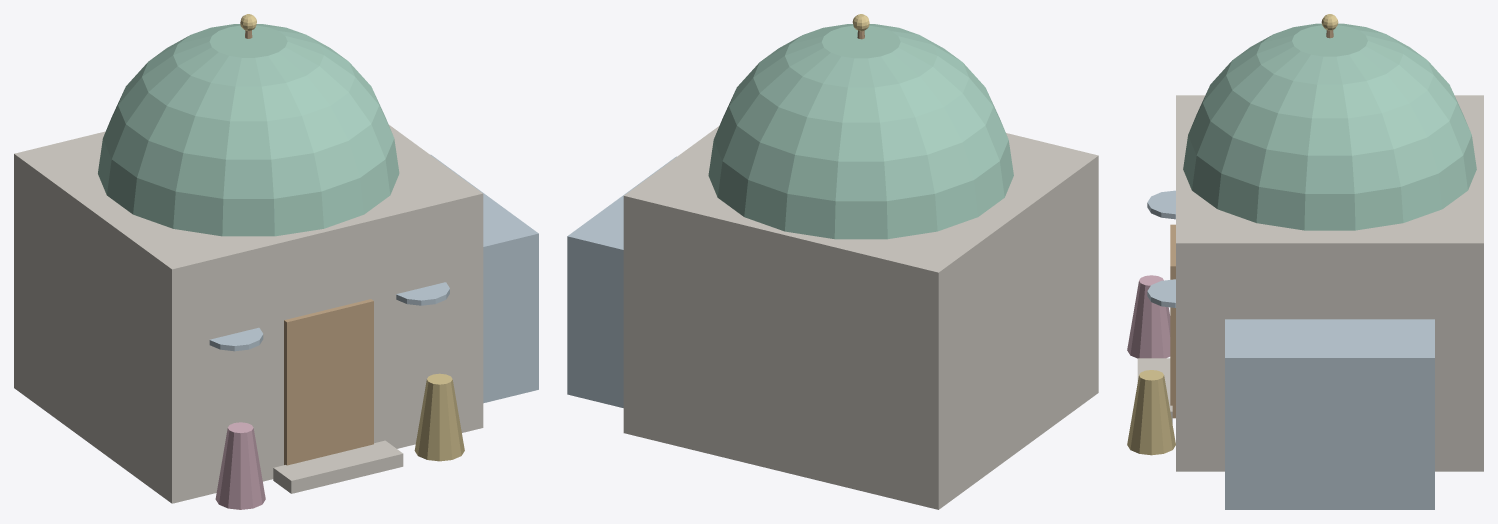
Rendered from lab.glb.
The picture shows the model from 3 angles, left to right: view 1: azimuth 30°, elevation 25°; view 2: azimuth 150°, elevation 25°; view 3: azimuth 270°, elevation 25°; orthographic projection. The views are drawn at different scales.
Visible parts, largest first — view 1: lab; view 2: lab; view 3: lab.
Boxes of the visible parts, x1,y1,x2,y2 form: lab: [14, 14, 538, 509]; lab: [567, 14, 1098, 509]; lab: [1127, 14, 1483, 509].
Size of the model in its own units: 6.3 by 6.04 by 5.1.
